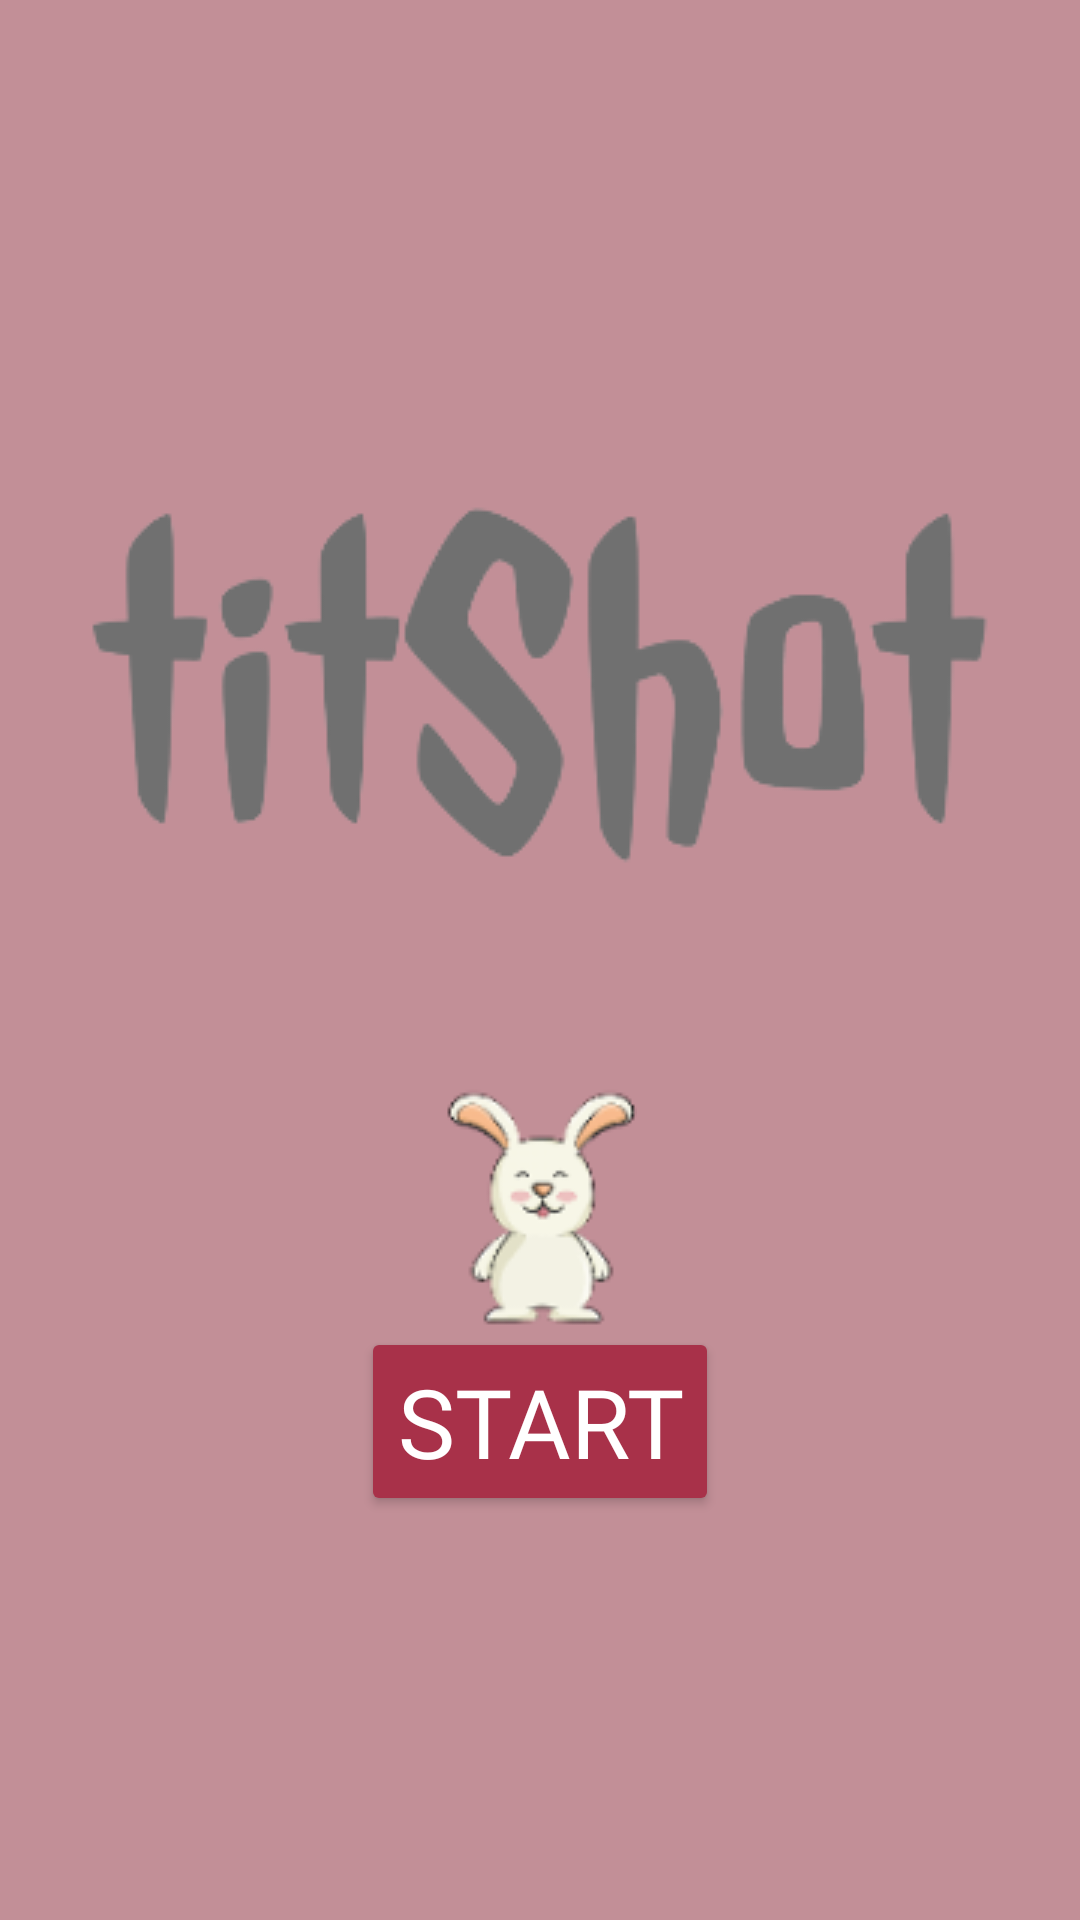

Named icons in this screenshot (1080x1920) and their bounding boxes, (x1, y1, x2, y2):
rabbit: (447, 1093, 635, 1324)
